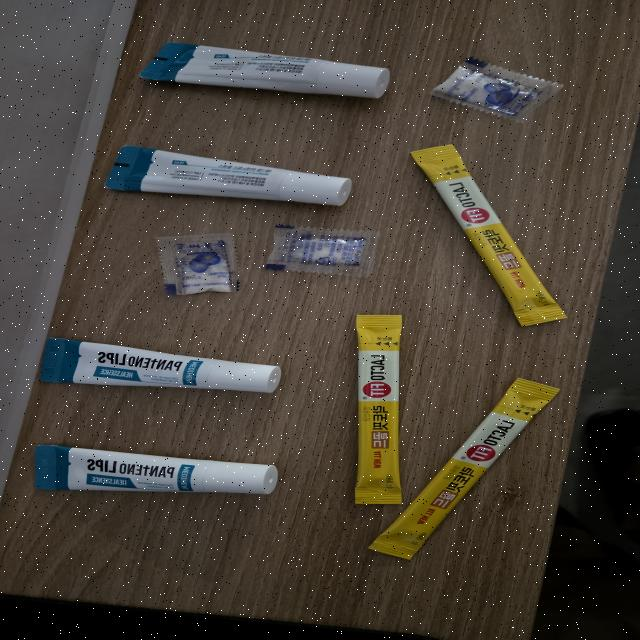lacto: (366, 378, 566, 567), (408, 139, 574, 328), (345, 308, 405, 509)
lib: (131, 33, 394, 101), (99, 139, 354, 208), (37, 338, 296, 396), (29, 445, 298, 493)
salt: (134, 32, 395, 100), (127, 46, 396, 102), (427, 54, 568, 125), (155, 225, 244, 302), (260, 224, 380, 278)
